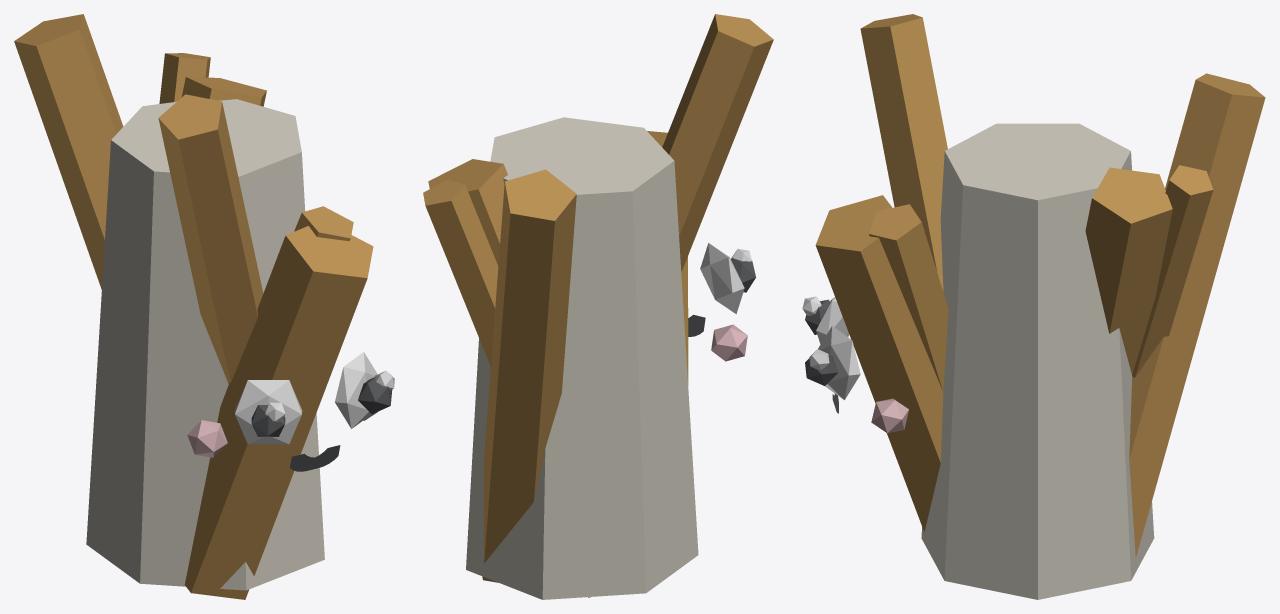
Rendered from daldinia-childiae.glb.
3 views of the same model, side by side, from view 1: azimuth 30°, elevation 25°; view 2: azimuth 150°, elevation 25°; view 3: azimuth 270°, elevation 25° (orthographic). The views are drawn at different scales.
Parts seen in each view (by area): view 1: stalk, branch0, branch3, branch2, pface-eye-r, pface-eye-l, branch5, branch1, branch4, pface-blush--1, pface-pupil-l, pface-smile (+1 smaller); view 2: stalk, branch2, branch3, branch5, branch1, pface-eye-r, pface-blush--1, branch0, pface-pupil-r; view 3: stalk, branch2, branch0, branch3, branch1, branch4, branch5, pface-eye-l, pface-blush-1, pface-eye-r.
Part boxes in pixels (x1,y1,x2,y2): stalk: (86,99,324,590); branch0: (184,226,373,599); branch3: (158,94,263,384); branch2: (14,14,123,289); pface-eye-r: (235,380,302,444); pface-eye-l: (335,352,377,428); branch5: (159,53,210,103); branch1: (181,77,266,106); branch4: (294,206,353,241); pface-blush--1: (187,420,227,457); pface-pupil-l: (358,377,392,413); pface-smile: (290,445,340,471); stalk: (466,117,698,599); branch2: (482,169,576,582); branch3: (662,14,773,271); branch5: (423,180,498,368); branch1: (428,159,590,597); pface-eye-r: (700,243,744,314); pface-blush--1: (711,324,747,361); branch0: (647,131,688,384); pface-pupil-r: (731,257,755,292); stalk: (921,123,1154,599); branch2: (1129,73,1265,557); branch0: (815,195,943,532); branch3: (860,14,947,291); branch1: (1085,167,1172,374); branch4: (869,204,948,391); branch5: (1132,165,1213,377); pface-eye-l: (818,326,860,400); pface-blush-1: (871,398,908,433); pface-eye-r: (816,297,849,344).
Bounding box in the file's own units: 0.1041 × 0.2344 × 0.1939.
